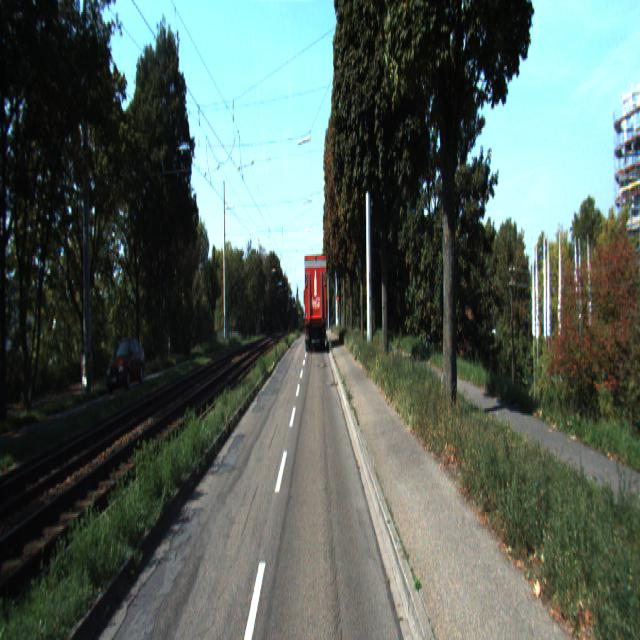Car: (104, 335, 148, 397), (302, 250, 327, 351)
